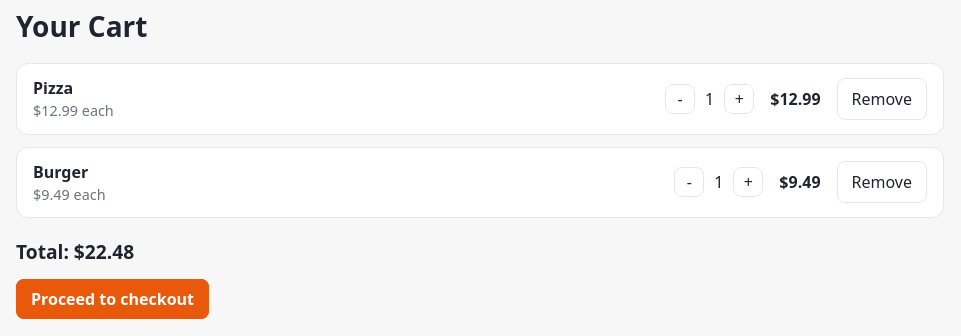
Scenario: Cart › removes an item with the remove button
The width and height of the screenshot is (961, 336).
Expected: the text "Pizza" is shown, [33,77,73,99]
Click the button with aria-label "remove pizza". click: (882,99)
box: [836,78,927,120]
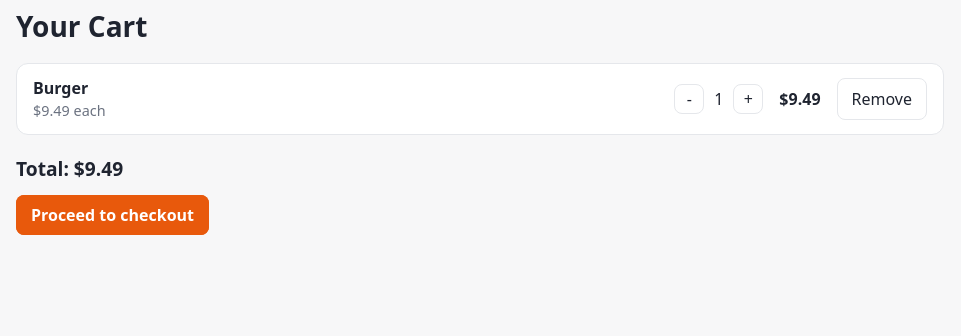
Expected: the text "Burger" is shown, [33,77,88,99]
Expected: the text "Pizza" is gone
